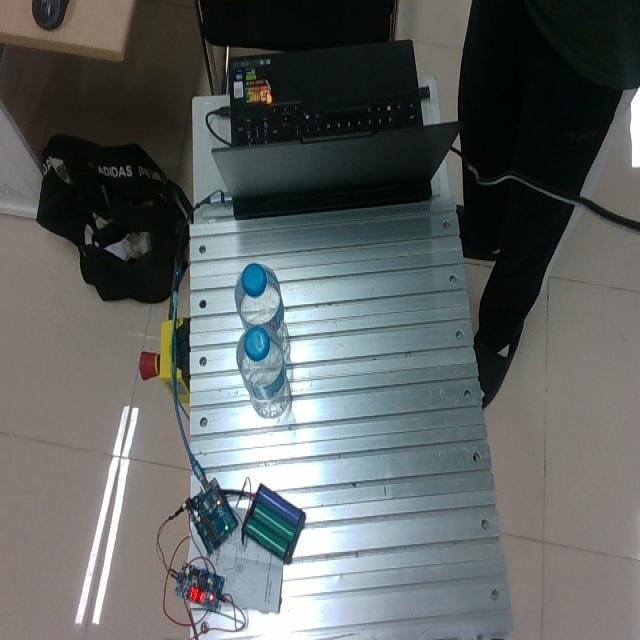lavie: (237, 321, 291, 419), (235, 263, 289, 361)
